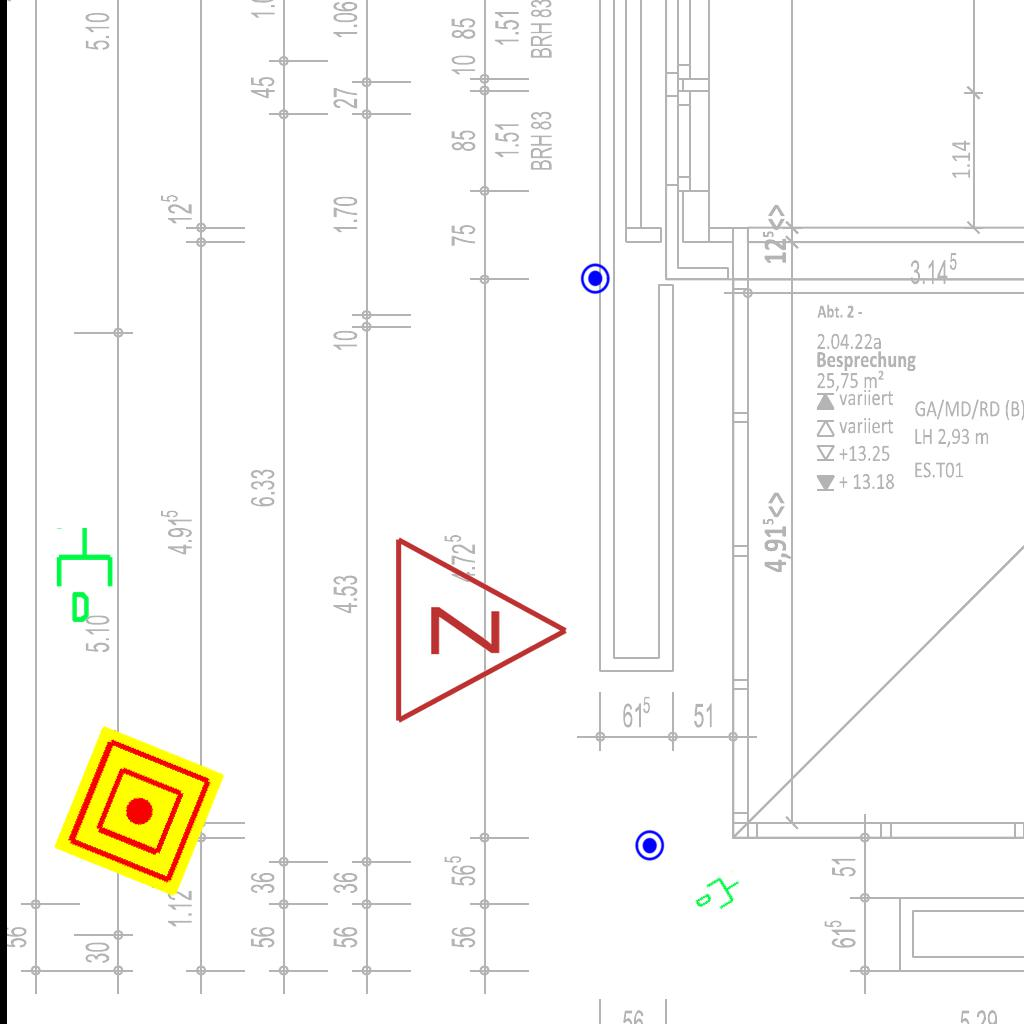Datenanschluss_einfach: (52, 525, 121, 625), (688, 867, 750, 923)
NAM-Nichtautomatischer_Melder: (53, 725, 225, 897)
Taster: (632, 829, 665, 862), (580, 262, 613, 295)
Zimmersignalleuchte: (381, 530, 581, 726)
